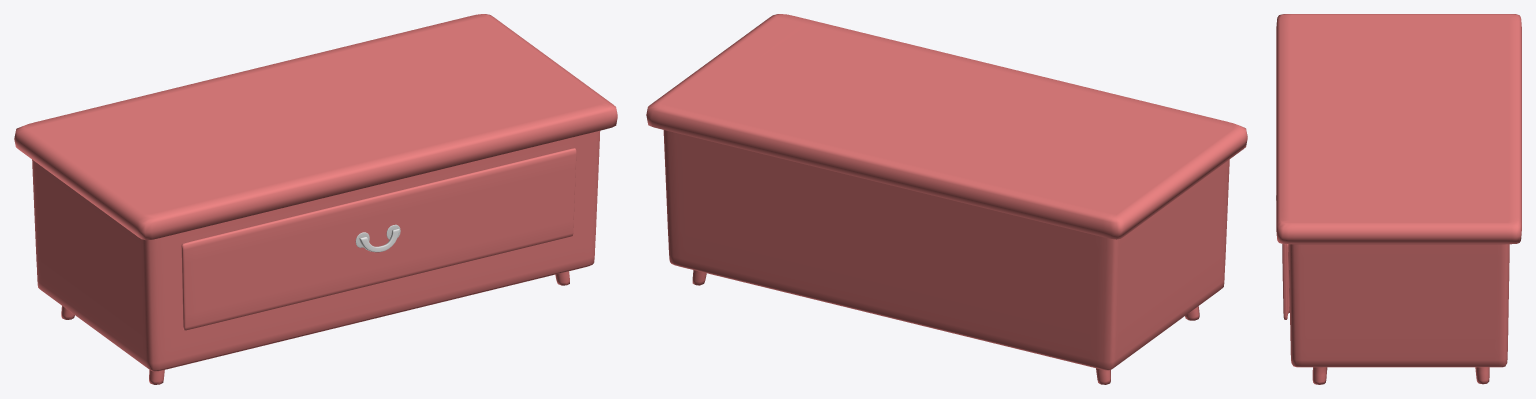
The model's file is shortDrawer.fbx.
3 renders of one model, left to right at view 1: azimuth 30°, elevation 25°; view 2: azimuth 150°, elevation 25°; view 3: azimuth 270°, elevation 25°, orthographic. The views are drawn at different scales.
Parts seen in each view (by area): view 1: Cube, Cube.003; view 2: Cube; view 3: Cube.
Boxes of the visible parts, x1,y1,x2,y2 form: Cube: [14, 14, 617, 384]; Cube.003: [355, 224, 400, 252]; Cube: [646, 14, 1247, 384]; Cube: [1276, 14, 1521, 384].
Size of the model in its own units: 501 by 186 by 241.
